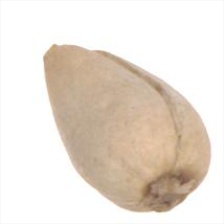L1: (145, 171, 198, 213), (42, 37, 90, 71)
L2: (42, 42, 212, 214)
